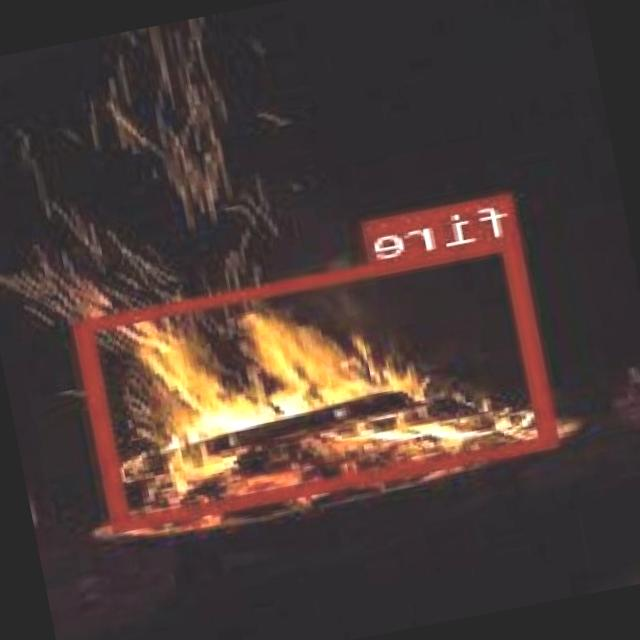fire: (77, 233, 560, 530)
